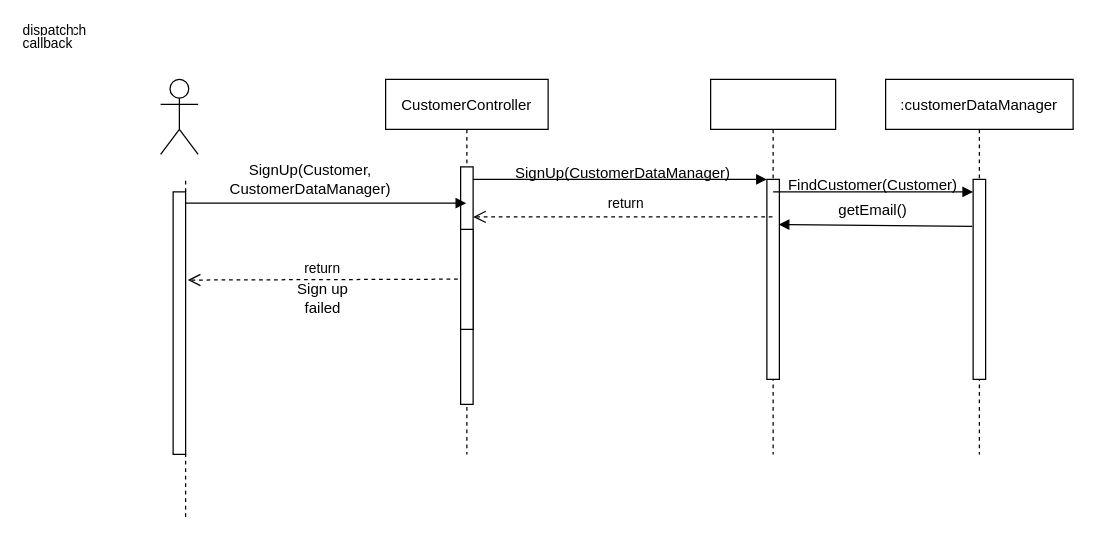
The diagram is 1095 pixels wide and 540 high, and some of its shapes have lost their labels. The shapes that lost their labels are listed below. From the top down, each one's box as (x1, y1, x2, y2) in pixels, then its label:
(159, 78, 198, 154): Actor
(709, 78, 836, 454): :customer
